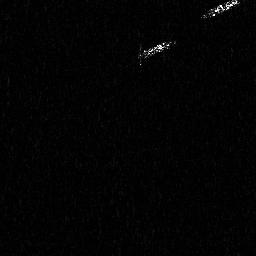ship: (135, 38, 179, 66), (198, 1, 241, 23)
